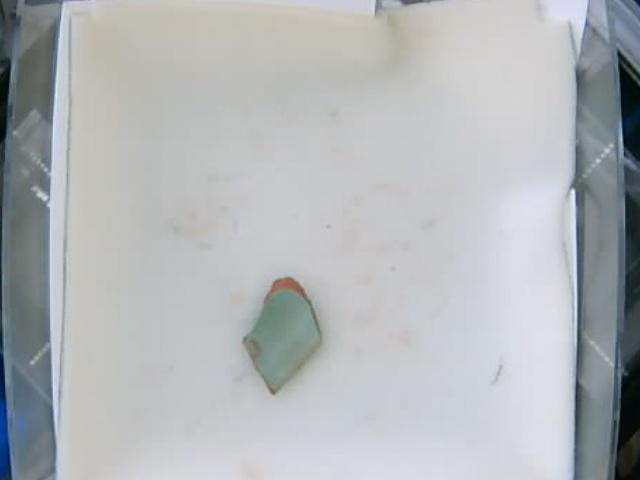China: (243, 276, 325, 393)
